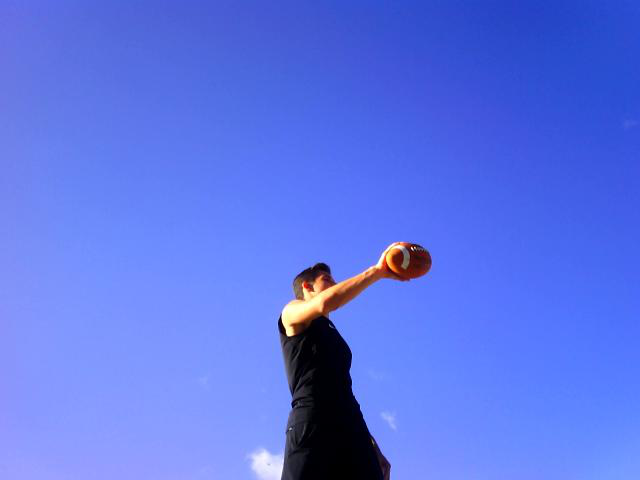football: (386, 241, 434, 281)
